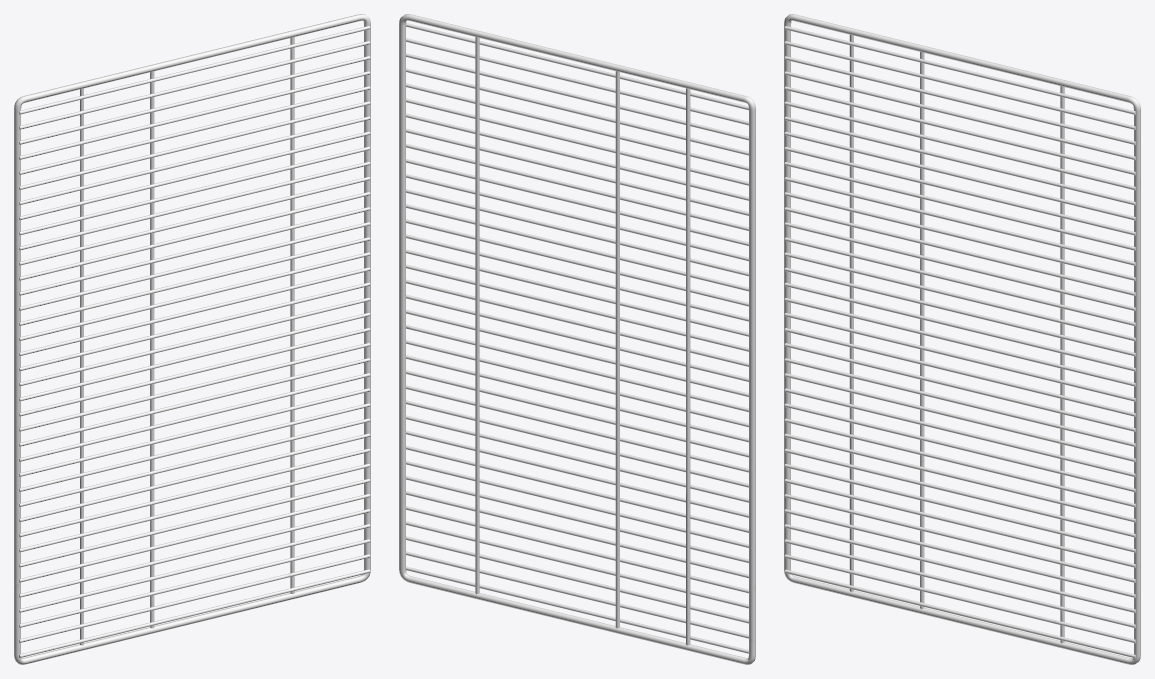
File: SM_Incubator_body_NakedSingularity_main_0_022.obj
3 views of the same model, side by side, from view 1: azimuth 30°, elevation 25°; view 2: azimuth 150°, elevation 25°; view 3: azimuth 330°, elevation 25° (orthographic).
Parts seen in each view (by area): view 1: SM_Incubator_body_NakedSingularity_main_0_022; view 2: SM_Incubator_body_NakedSingularity_main_0_022; view 3: SM_Incubator_body_NakedSingularity_main_0_022.
Part boxes in pixels (x1,y1,x2,y2): SM_Incubator_body_NakedSingularity_main_0_022: [14, 14, 370, 664]; SM_Incubator_body_NakedSingularity_main_0_022: [399, 14, 755, 664]; SM_Incubator_body_NakedSingularity_main_0_022: [784, 14, 1140, 664].
Bounding box in the file's own units: 29.56 × 45.11 × 0.6727.
1 material, 1 textured.
